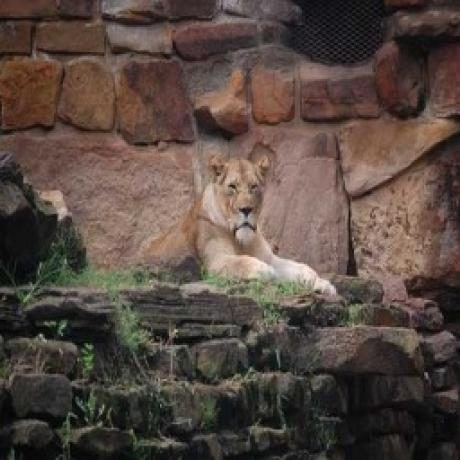Lion: (138, 151, 340, 297)
